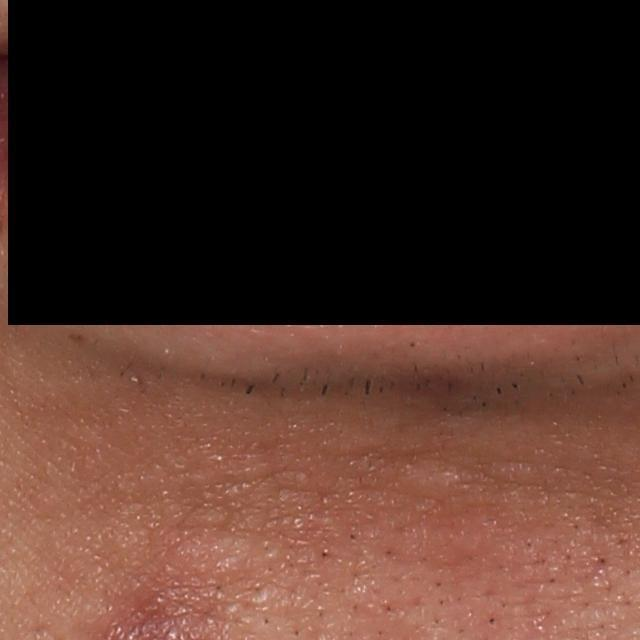hypertrophic_scar: (165, 531, 263, 579), (390, 462, 463, 501)
